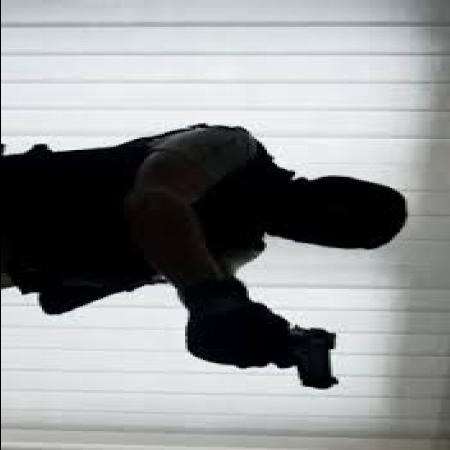Pistol: (235, 322, 343, 398)
